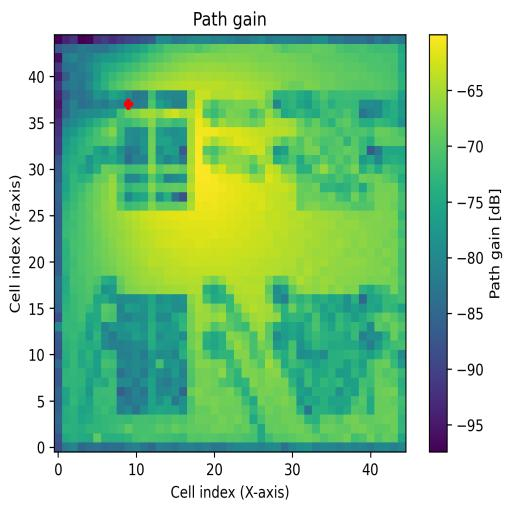Concrete: (297, 92, 374, 210)
Glass: (118, 91, 195, 210)
Metal: (297, 294, 376, 414)
Wood: (116, 294, 188, 415)
